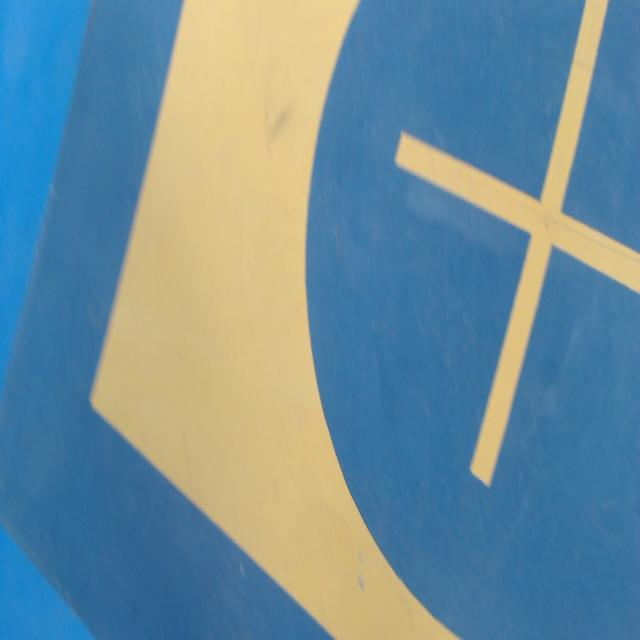base_inicio: (89, 0, 640, 639)
